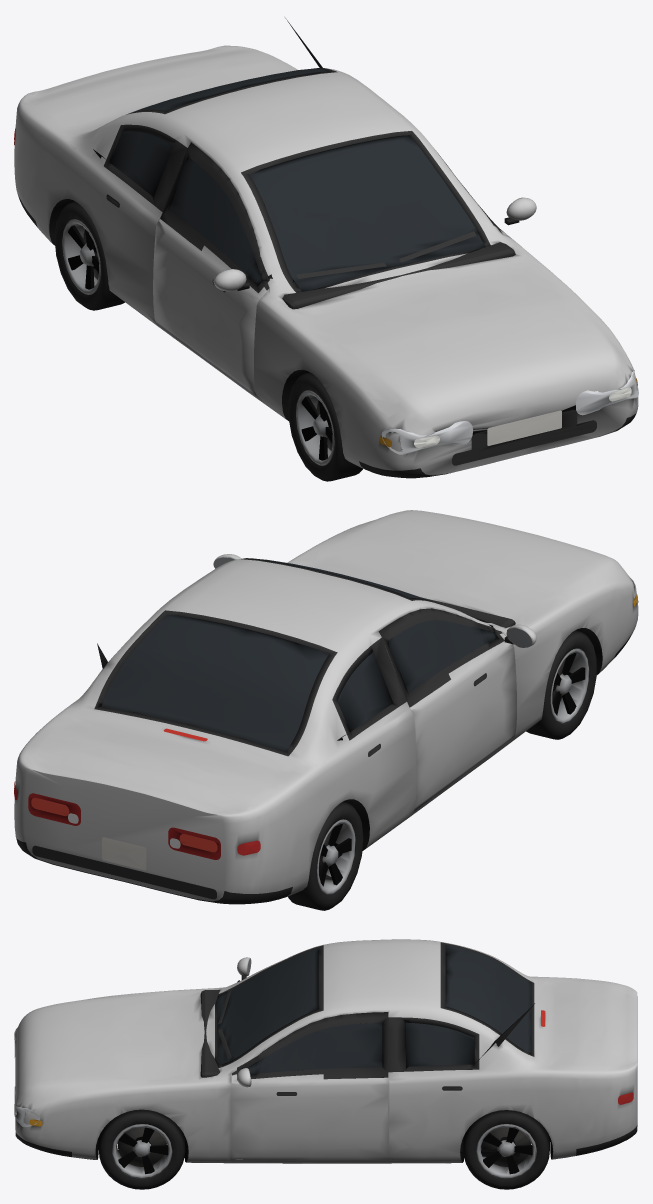
The model's file is car-sedan-v2.glb.
3 renders of one model, top to bottom at view 1: azimuth 30°, elevation 25°; view 2: azimuth 150°, elevation 25°; view 3: azimuth 270°, elevation 25°, orthographic. The views are drawn at different scales.
Visible parts, largest first — view 1: body, door_R, wheel_FR, wheel_RR, door_L; view 2: body, door_R, wheel_RR, wheel_FR; view 3: body, door_L, wheel_FL, wheel_RL.
Part boxes in pixels (x1,y1,x2,y2): body: (14,18,638,478); door_R: (153,142,269,395); wheel_FR: (288,372,362,481); wheel_RR: (54,201,124,310); door_L: (437,152,536,236); body: (14,510,638,904); door_R: (378,608,536,811); wheel_RR: (286,802,363,910); wheel_FR: (526,630,596,739); body: (14,939,637,1163); door_L: (231,1012,388,1159); wheel_FL: (98,1109,185,1189); wheel_RL: (463,1110,549,1189).
Size of the model in its own units: 2.23 by 1.5 by 4.83.
